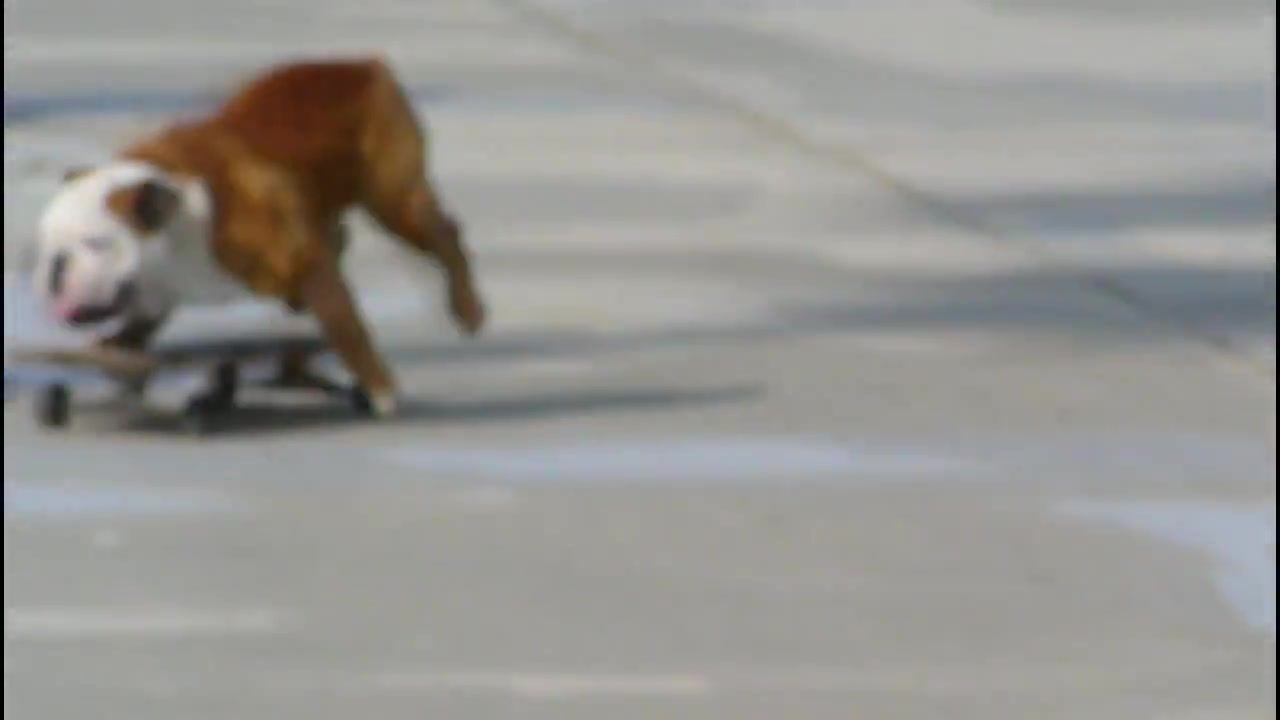dog: (34, 44, 484, 433)
